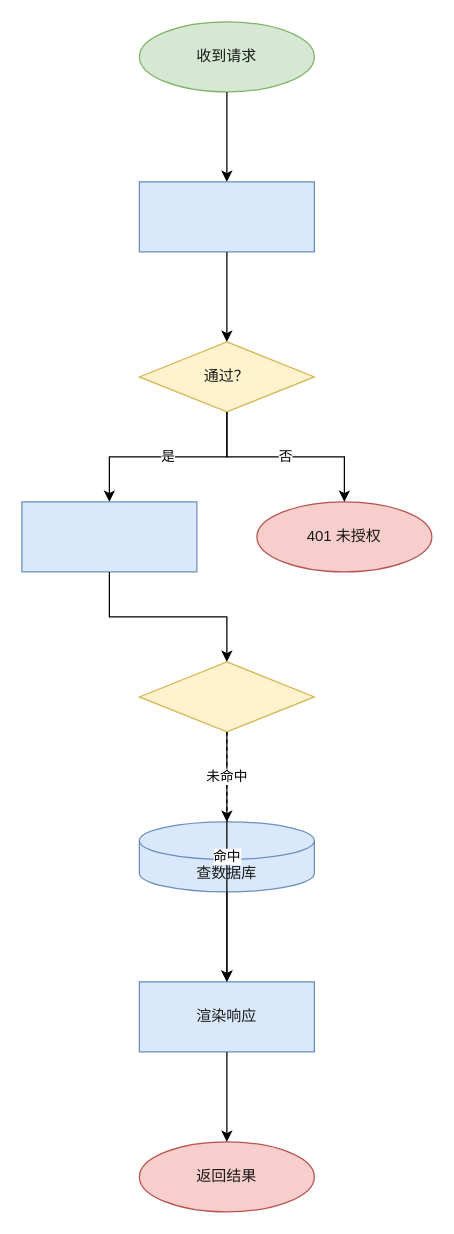
Some shapes in this 454 by 1234 pixel diagram are drawn without their labels. The centre of each missing label's shape, as x and y in pixels:
命中缓存？: the point at 226,696
路由分发: the point at 109,536
鉴权: the point at 226,216
